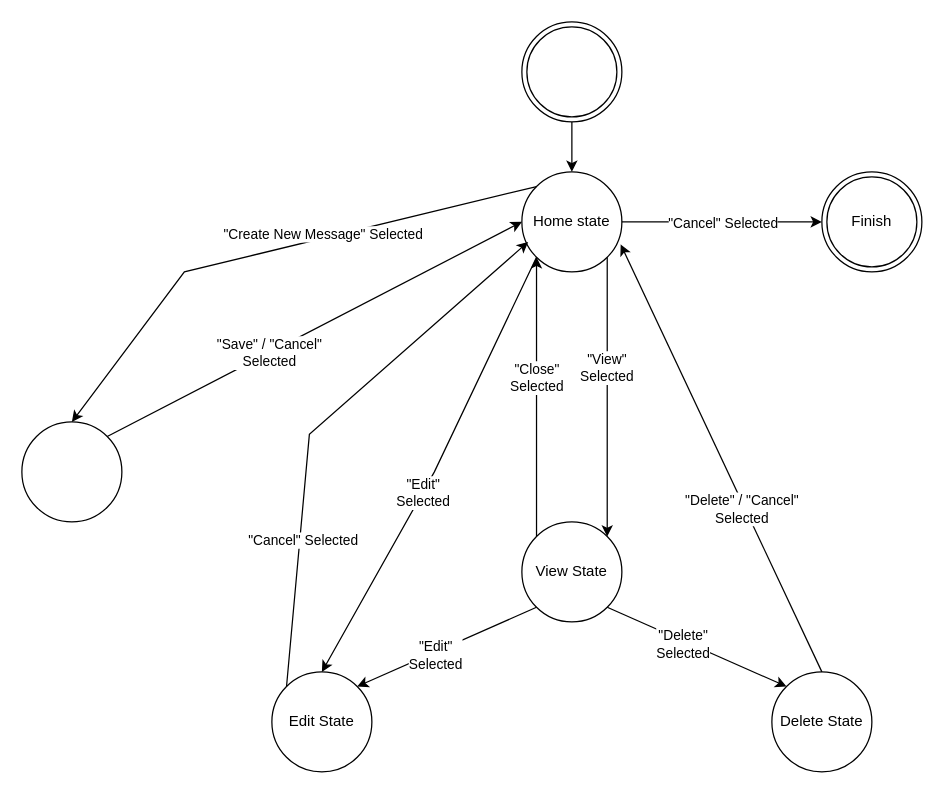
This 944x794 diagram has some shape labels left out. The shapes that lost their labels are listed below. From the top down, each one's centre as x and y in pixels, then its label:
At point (571, 71): "Start".
At point (71, 471): "Create State".
